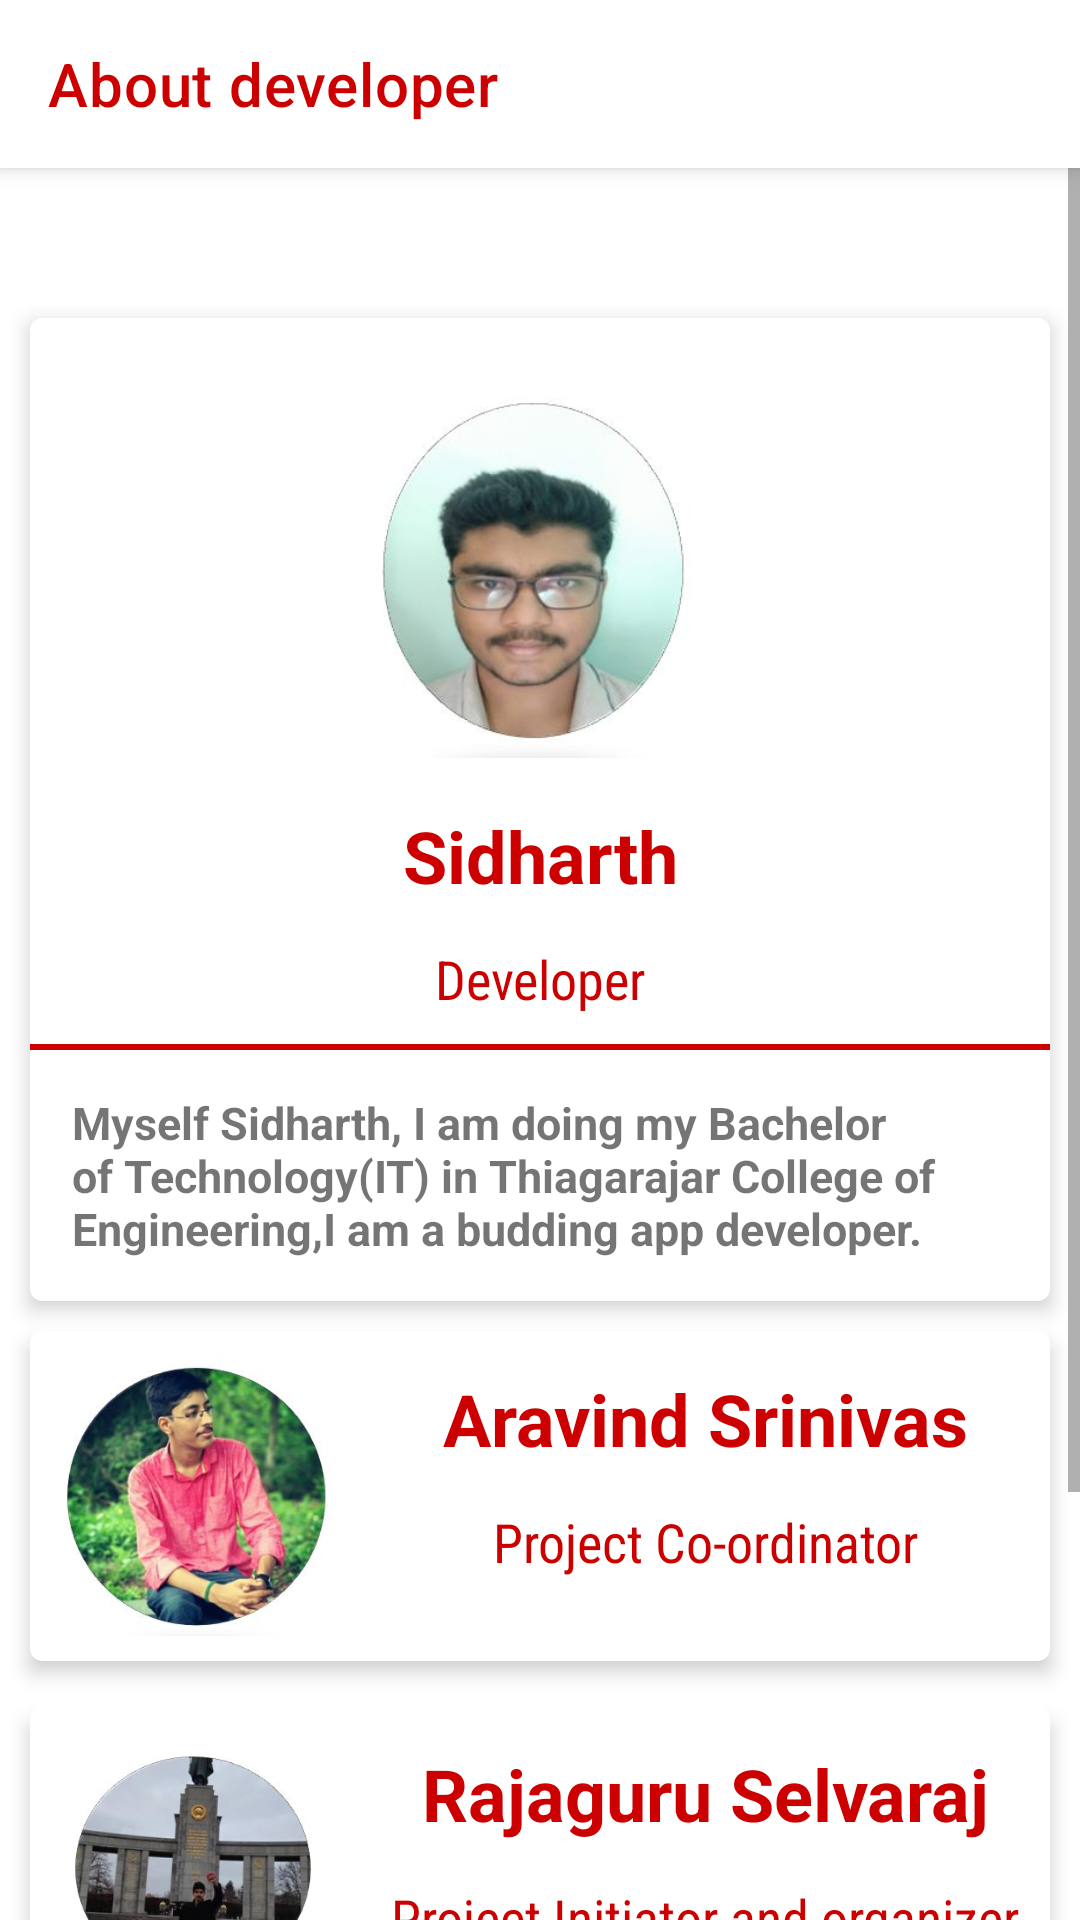

Icon bounding boxes for this 1080px x 1920px phone screenshot, format (x1, y1, x2, y2):
devcircle: (382, 403, 684, 738)
